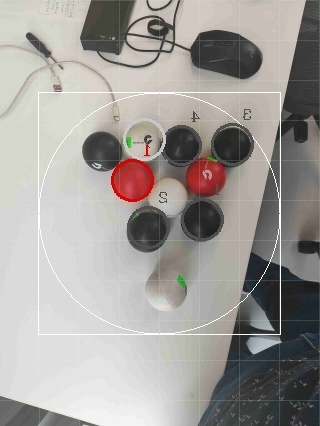Pelota blanca: (79, 0, 177, 70), (146, 238, 217, 315), (26, 0, 92, 61), (0, 44, 49, 118), (119, 118, 167, 160), (82, 129, 124, 171), (154, 177, 191, 216)
Pelota negra: (189, 28, 265, 81), (127, 204, 172, 254), (210, 121, 254, 168), (181, 198, 225, 243), (162, 124, 204, 168), (82, 129, 124, 171)
Pelota roja: (109, 156, 156, 203), (186, 156, 228, 198)
